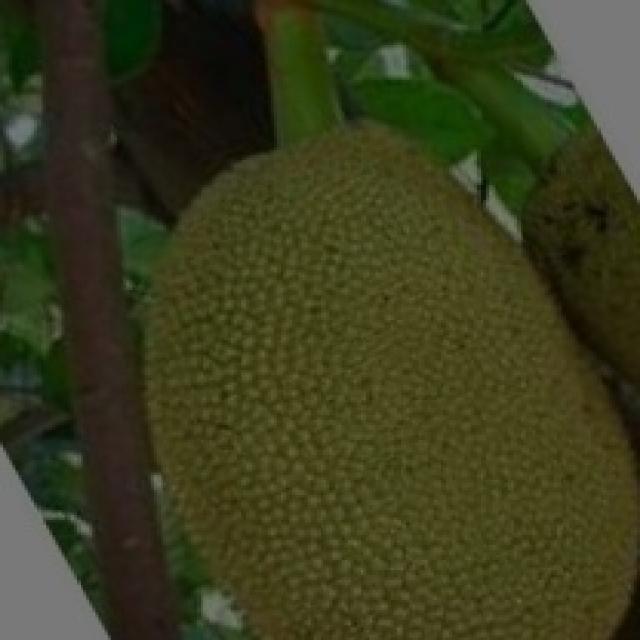Fruit: (228, 70, 634, 412)
